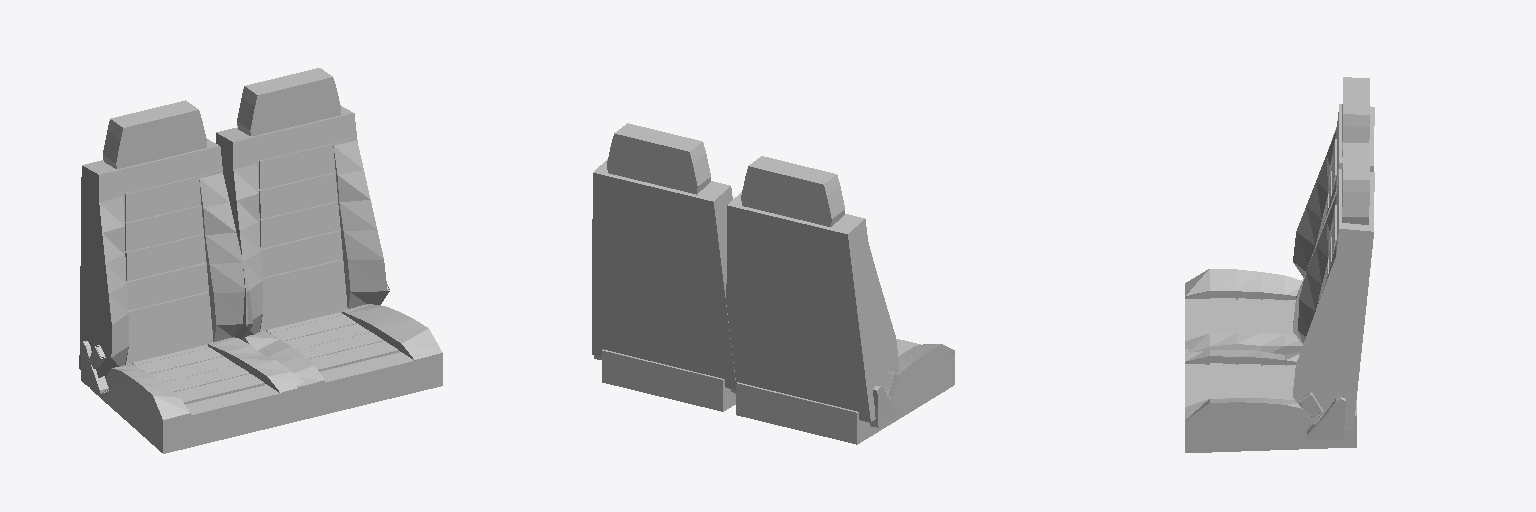
File: car_seat_back_temp.obj
3 views of the same model, side by side, from view 1: azimuth 30°, elevation 25°; view 2: azimuth 150°, elevation 25°; view 3: azimuth 270°, elevation 25° (orthographic).
Parts seen in each view (by area): view 1: Cube.012_Cube.013, Cube.011_Cube.012, Cube.013_Cube.014, Cube.010_Cube.011, Cube.009_Cube.010, Cube.014_Cube.015, Cube.016_Cube.017; view 2: Cube.012_Cube.013, Cube.011_Cube.012, Cube.013_Cube.014, Cube.014_Cube.015, Cube.009_Cube.010, Cube.010_Cube.011, Cube.016_Cube.017; view 3: Cube.010_Cube.011, Cube.011_Cube.012, Cube.013_Cube.014, Cube.012_Cube.013, Cube.009_Cube.010, Cube.014_Cube.015, Cube.008_Cube.006.
Part boxes in pixels (left/top/right/bottom): Cube.012_Cube.013: left=79, top=139, right=252, bottom=377; Cube.011_Cube.012: left=216, top=106, right=387, bottom=339; Cube.013_Cube.014: left=90, top=337, right=307, bottom=453; Cube.010_Cube.011: left=243, top=304, right=442, bottom=418; Cube.009_Cube.010: left=237, top=68, right=340, bottom=136; Cube.014_Cube.015: left=103, top=100, right=206, bottom=168; Cube.016_Cube.017: left=80, top=341, right=108, bottom=394; Cube.012_Cube.013: left=726, top=192, right=899, bottom=422; Cube.011_Cube.012: left=592, top=159, right=735, bottom=389; Cube.013_Cube.014: left=736, top=339, right=954, bottom=444; Cube.014_Cube.015: left=741, top=156, right=844, bottom=226; Cube.009_Cube.010: left=607, top=123, right=710, bottom=194; Cube.010_Cube.011: left=602, top=349, right=735, bottom=411; Cube.016_Cube.017: left=869, top=386, right=896, bottom=427; Cube.010_Cube.011: left=1185, top=349, right=1356, bottom=452; Cube.011_Cube.012: left=1293, top=169, right=1374, bottom=429; Cube.013_Cube.014: left=1185, top=269, right=1302, bottom=354; Cube.012_Cube.013: left=1293, top=104, right=1374, bottom=343; Cube.009_Cube.010: left=1342, top=143, right=1369, bottom=224; Cube.014_Cube.015: left=1342, top=77, right=1369, bottom=156; Cube.008_Cube.006: left=1307, top=397, right=1345, bottom=439.
Size of the model in its own units: 3.74 by 3.22 by 2.13.